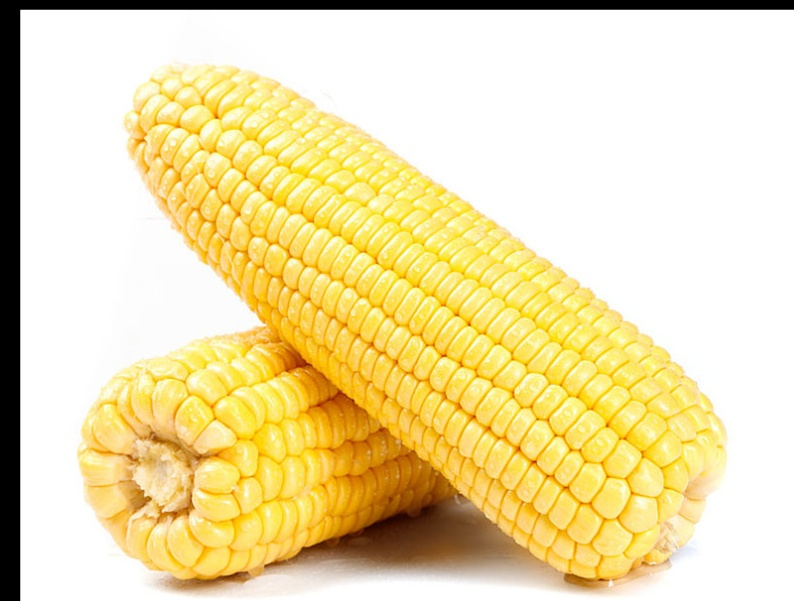corn: (129, 61, 706, 551), (77, 297, 571, 579)
